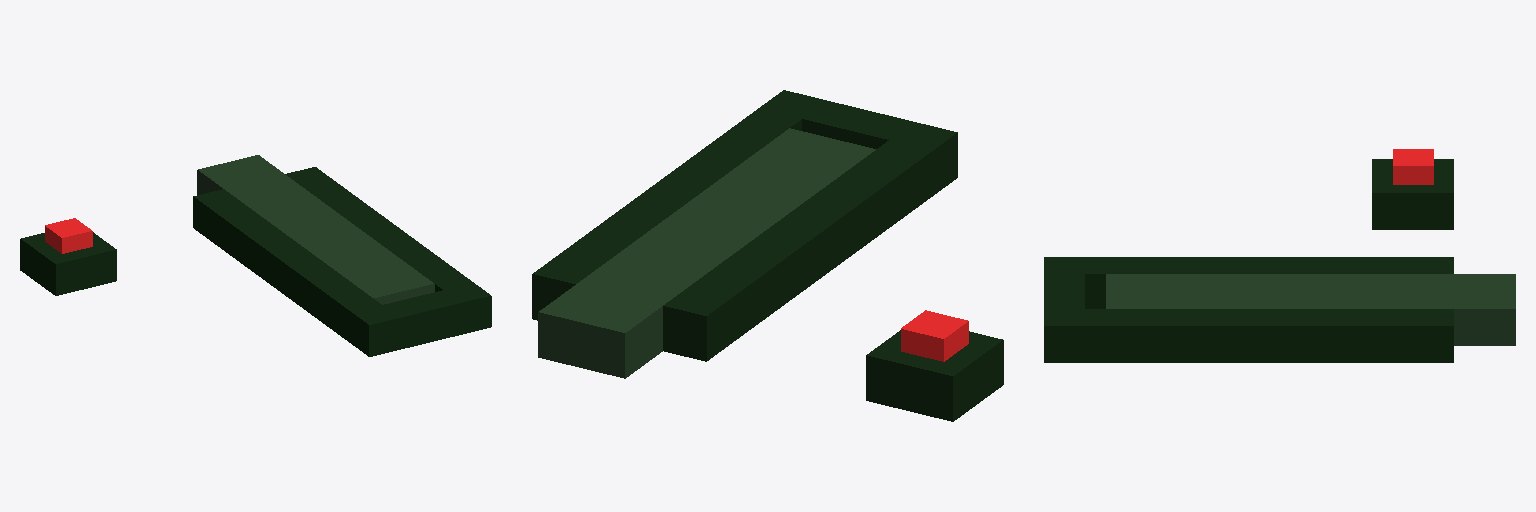
robot.urdf — catapult:
<?xml version="1.0" ?>
<robot name="catapult">
    <material name="material_0">
        <color rgba="0.1 0.2 0.1 1"/> 
    </material>
    <material name="material_1">
        <color rgba="1.0 0.2 0.2 1"/> 
    </material>
    <material name="material_2">
        <color rgba="0.2 0.3 0.2 1"/> 
    </material>

	<link name="catapult_body">
		<inertial>
			<origin rpy="0.00000 -0.00000 0.00000" xyz="0.00000 0.00000 0.00000"/>
			<mass value="20.40400"/>
			<inertia ixx="0.01064" ixy="0" ixz="0" iyy="0.00995" iyz="0" izz="0.02037"/>
		</inertial>
		<collision name="button_base">
			<origin rpy="0.00000 -0.00000 0.00000" xyz="-0.20000 0.22500 0.00000"/>
			<geometry>
				<box size="0.06000 0.06000 0.03000"/>
			</geometry>
		</collision>
		<visual name="button_base">
			<origin rpy="0.00000 -0.00000 0.00000" xyz="-0.20000 0.22500 0.00000"/>
			<geometry>
				<box size="0.06000 0.06000 0.03000"/>
			</geometry>
			<material name="material_0"/>
		</visual>
		<collision name="catapult_side_0">
			<origin rpy="0.00000 -0.00000 0.00000" xyz="0.04500 0.10500 0.00000"/>
			<geometry>
				<box size="0.03000 0.30000 0.03000"/>
			</geometry>
		</collision>
		<visual name="catapult_side_0">
			<origin rpy="0.00000 -0.00000 0.00000" xyz="0.04500 0.10500 0.00000"/>
			<geometry>
				<box size="0.03000 0.30000 0.03000"/>
			</geometry>
			<material name="material_0"/>
		</visual>
		<collision name="catapult_side_1">
			<origin rpy="0.00000 -0.00000 0.00000" xyz="-0.04500 0.10500 0.00000"/>
			<geometry>
				<box size="0.03000 0.30000 0.03000"/>
			</geometry>
		</collision>
		<visual name="catapult_side_1">
			<origin rpy="0.00000 -0.00000 0.00000" xyz="-0.04500 0.10500 0.00000"/>
			<geometry>
				<box size="0.03000 0.30000 0.03000"/>
			</geometry>
			<material name="material_0"/>
		</visual>
		<collision name="catapult_back">
			<origin rpy="0.00000 -0.00000 0.00000" xyz="0.00000 -0.03000 0.00000"/>
			<geometry>
				<box size="0.06000 0.03000 0.03000"/>
			</geometry>
		</collision>
		<visual name="catapult_back">
			<origin rpy="0.00000 -0.00000 0.00000" xyz="0.00000 -0.03000 0.00000"/>
			<geometry>
				<box size="0.06000 0.03000 0.03000"/>
			</geometry>
			<material name="material_0"/>
		</visual>
	</link>
	<link name="button">
		<inertial>
			<origin rpy="0.00000 -0.00000 0.00000" xyz="0.00000 0.00000 0.00000"/>
			<mass value="0.01"/>
			<inertia ixx="0.00001" ixy="0" ixz="0" iyy="0.00001" iyz="0" izz="0.00001"/>
		</inertial>
		<collision name="button">
			<origin rpy="0.00000 -0.00000 0.00000" xyz="0.00000 0.00000 0.0075"/>
			<geometry>
				<box size="0.03 0.03 0.015"/>
				<!-- <capsule length="0.01200" radius="0.01500"/> -->
			</geometry>
		</collision>
		<visual name="button">
			<origin rpy="0.00000 -0.00000 0.00000" xyz="0.00000 0.00000 0.0075"/>
			<geometry>
				<box size="0.03 0.03 0.015"/>
				<!-- <capsule length="0.04000" radius="0.01500"/> -->
			</geometry>
			<material name="material_1"/>
		</visual>
	</link>
	<link name="catapult_arm">
		<inertial>
			<origin rpy="0.00000 -0.00000 0.00000" xyz="0.00000 0.00000 0.00000"/>
			<mass value="0.05"/>
			<inertia ixx="0.00818" ixy="0" ixz="0" iyy="0.00040" iyz="0" izz="0.00842"/>
		</inertial>
		<collision name="catapult_arm">
			<origin rpy="0.00000 -0.00000 0.00000" xyz="0.00000 0.15000 0.00000"/>
			<geometry>
				<box size="0.06000 0.30000 0.03000"/>
			</geometry>
		</collision>
		<visual name="catapult_arm">
			<origin rpy="0.00000 -0.00000 0.00000" xyz="0.00000 0.15000 0.00000"/>
			<geometry>
				<box size="0.06000 0.30000 0.03000"/>
			</geometry>
			<material name="material_2"/>
		</visual>
	</link>
	<joint name="button_slider" type="prismatic">
		<parent link="catapult_body"/>
		<child link="button"/>
		<limit lower="0.00000" upper="0.014"/>
		<dynamics damping="1.0" friction="0.0001"/>
		<origin rpy="0.00000 -0.00000 0.00000" xyz="-0.20000 0.22500 0.015"/>
		<axis xyz="0.00000 0.00000 -1.00000"/>
	</joint>
	<joint name="catapult_hinge" type="revolute">
		<parent link="catapult_body"/>
		<child link="catapult_arm"/>
		<limit lower="0.00000" upper="1.00000"/>
		<dynamics damping="1.0" friction="0.0001"/>
		<origin rpy="0.00000 -0.00000 0.00000" xyz="0.00000 0.00000 0.00000"/>
		<axis xyz="1.00000 0.00000 0.00000"/>
	</joint>
</robot>

--- Facts derived from the render (not from the file) ---
Views: 3 orthographic renders of the robot side by side, from view 1: azimuth 30°, elevation 25°; view 2: azimuth 150°, elevation 25°; view 3: azimuth 270°, elevation 25°.
Model catapult with 3 links and 2 joints (1 revolute, 1 prismatic), rooted at catapult_body, posed all joints at 0.
Links seen in each view (by area): view 1: catapult_body, catapult_arm, button; view 2: catapult_body, catapult_arm, button; view 3: catapult_body, catapult_arm, button.
Link boxes in pixels (x1,y1,x2,y2): catapult_body: (20,167,491,356); catapult_arm: (197,155,434,304); button: (45,218,92,253); catapult_body: (532,90,1003,421); catapult_arm: (538,128,875,378); button: (901,310,968,361); catapult_body: (1044,159,1453,362); catapult_arm: (1106,274,1515,345); button: (1393,149,1433,184).
Size in the robot's own frame: 0.29 by 0.345 by 0.045 metres.
Geometry: primitives only (box / cylinder / sphere), no mesh files.